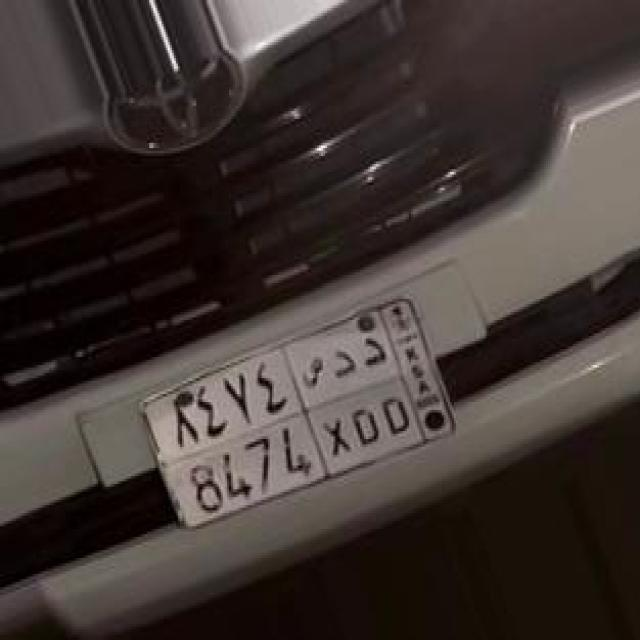Car-plate: (109, 261, 489, 566)
